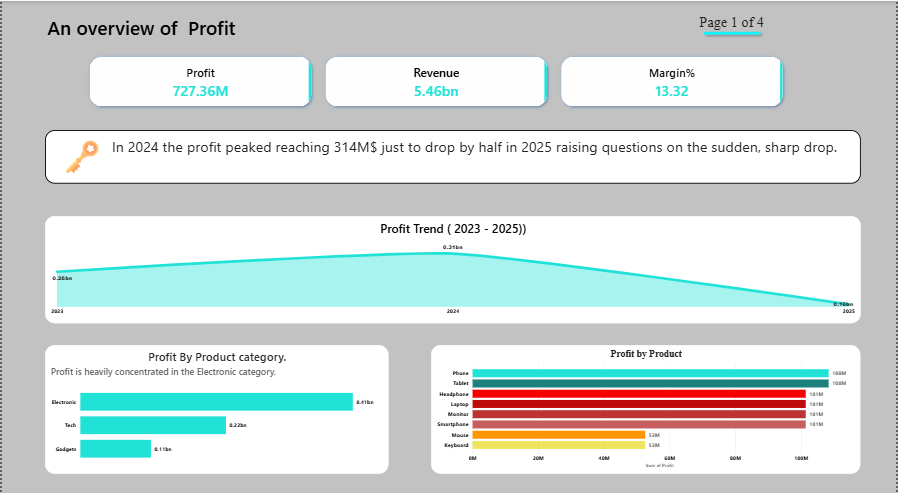

This screenshot's page, from the dashboard's own definition file:
{"tool":"powerbi","page":{"name":"Page 1","canvas":[2000,1100],"ordinal":0},"visuals":[{"type":"clusteredBarChart","title":"Profit By Product category.","fields":{"Category":["Product_Dim.Product_Category"],"Y":["Sum(SalesFactTable.Profit)"]},"box":[96,768,768,288],"z":0},{"type":"areaChart","title":"Profit  Trend ( 2023 - 2025))","fields":{"Category":["DateDim.Year"],"Y":["Sum(SalesFactTable.Profit)"]},"box":[96,480,1824,240],"z":1000},{"type":"cardVisual","fields":{"Data":["Sum(SalesFactTable.Profit)","Sum(SalesFactTable.Revenue)","SalesFactTable.Margin %"]},"box":[168,96,1608,168],"z":2000},{"type":"barChart","title":" Profit by Product ","fields":{"Category":["Product_Dim.Product_Name"],"Y":["Sum(SalesFactTable.Profit)"]},"box":[960,768,960,288],"z":3000},{"type":"textbox","box":[96,288,1824,120],"z":4000},{"type":"textbox","box":[96,24,600,96],"z":5000},{"type":"image","box":[144,288,72,120],"z":6000},{"type":"textbox","box":[1344,24,576,72],"z":7000},{"type":"shape","box":[1560,0,144,144],"z":8000}]}

Visuals, with their boxes in screenshot pixels (x1, y1, x2, y2), scaled from the page's 2000x1100 canvas onto the 898x493 screenshot:
"Profit By Product category." clusteredBarChart: (x1=43, y1=344, x2=388, y2=473)
"Profit  Trend ( 2023 - 2025))" areaChart: (x1=43, y1=215, x2=862, y2=323)
cardVisual - Sum(SalesFactTable.Profit) x Sum(SalesFactTable.Revenue): (x1=75, y1=43, x2=797, y2=118)
" Profit by Product " barChart: (x1=431, y1=344, x2=862, y2=473)
textbox: (x1=43, y1=129, x2=862, y2=183)
textbox: (x1=43, y1=11, x2=313, y2=54)
image: (x1=65, y1=129, x2=97, y2=183)
textbox: (x1=603, y1=11, x2=862, y2=43)
shape: (x1=700, y1=0, x2=765, y2=65)
